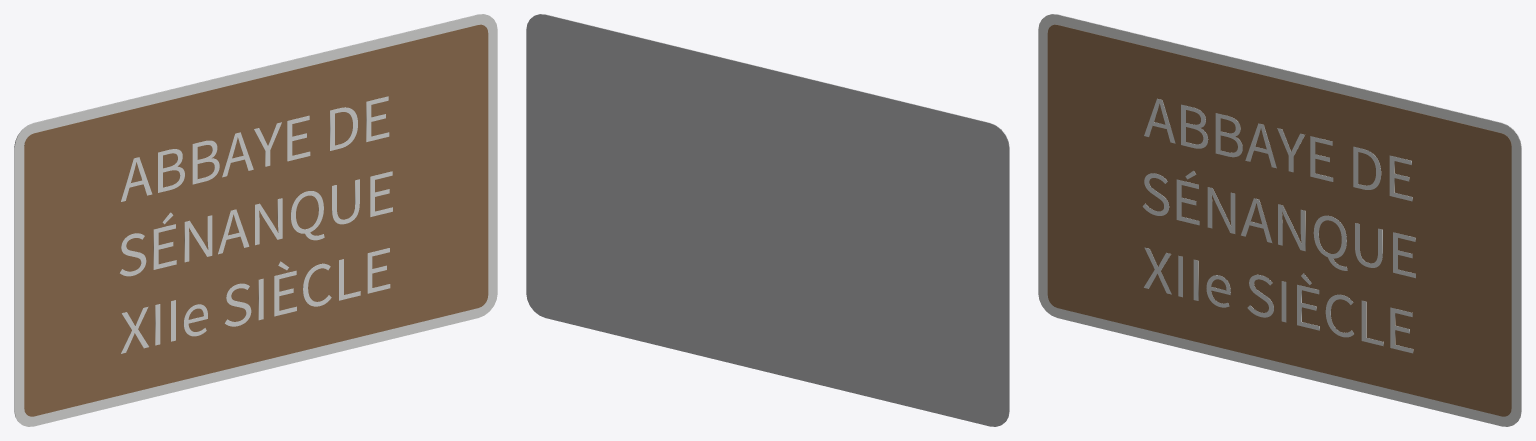
3 views of the same model, side by side, from view 1: azimuth 30°, elevation 25°; view 2: azimuth 150°, elevation 25°; view 3: azimuth 330°, elevation 25° (orthographic).
Visible parts, largest first — view 1: H13_r01, H13_r00, H13_txt03, H13_txt02, H13_txt04, H13_dos; view 2: H13_dos; view 3: H13_r01, H13_r00, H13_txt03, H13_txt02, H13_txt04, H13_dos.
Part boxes in pixels (x1,y1,x2,y2): H13_r01: (24, 24, 488, 416); H13_r00: (14, 14, 497, 426); H13_txt03: (120, 171, 392, 276); H13_txt02: (121, 96, 389, 201); H13_txt04: (121, 248, 390, 353); H13_dos: (14, 14, 487, 420); H13_dos: (526, 14, 1009, 426); H13_r01: (1047, 24, 1511, 416); H13_r00: (1038, 14, 1521, 426); H13_txt03: (1142, 170, 1415, 278); H13_txt02: (1144, 98, 1412, 201); H13_txt04: (1144, 247, 1413, 353); H13_dos: (1048, 14, 1521, 420).
Size of the model in its own units: 1 by 0.6 by 0.0033.
